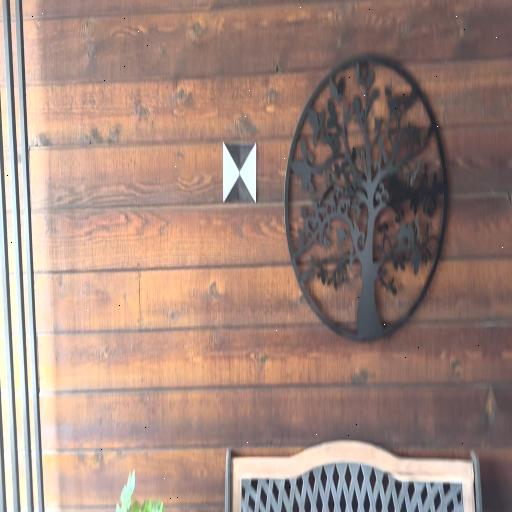target: (224, 142, 256, 201)
